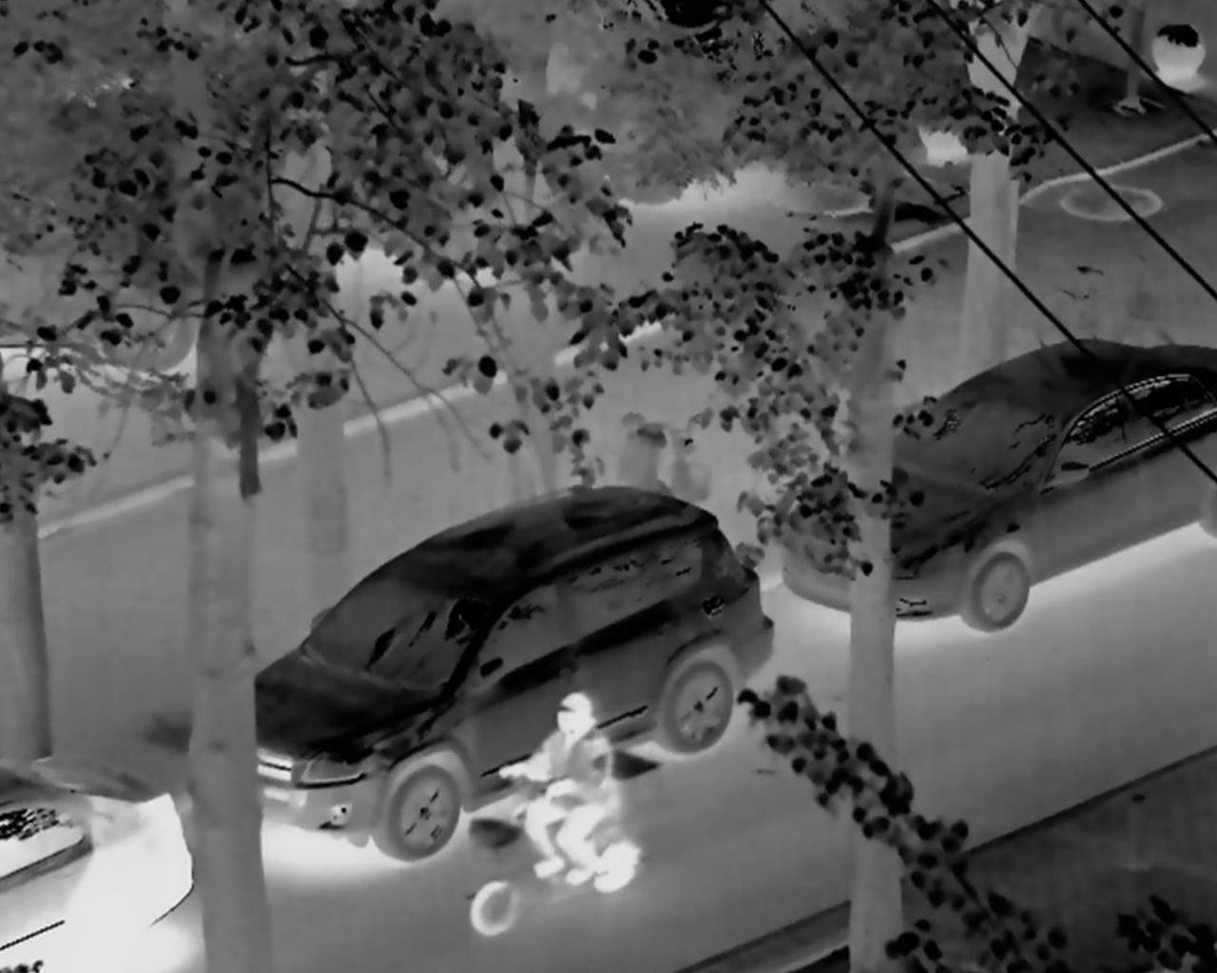person: (469, 691, 669, 925)
